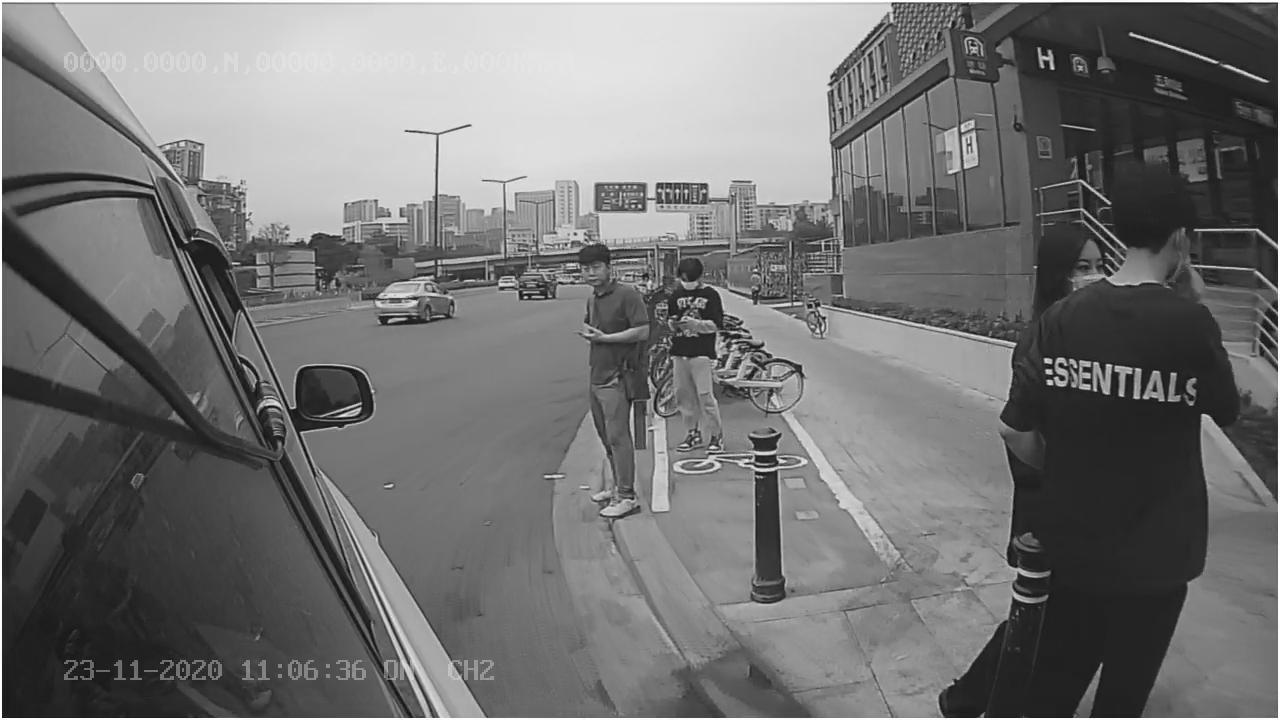person: (561, 236, 656, 530)
